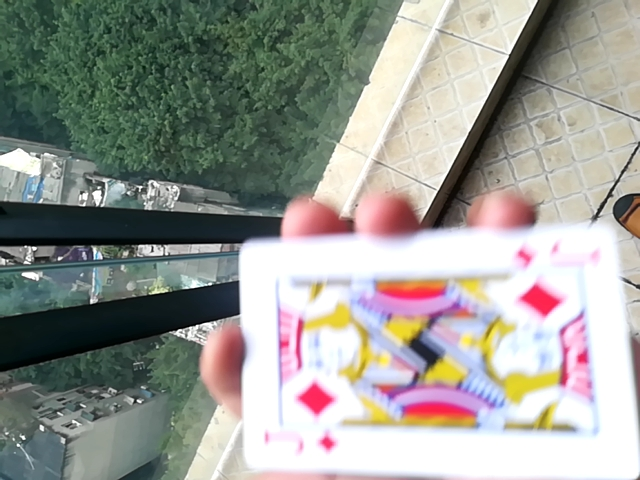fk j: (231, 230, 638, 477)
